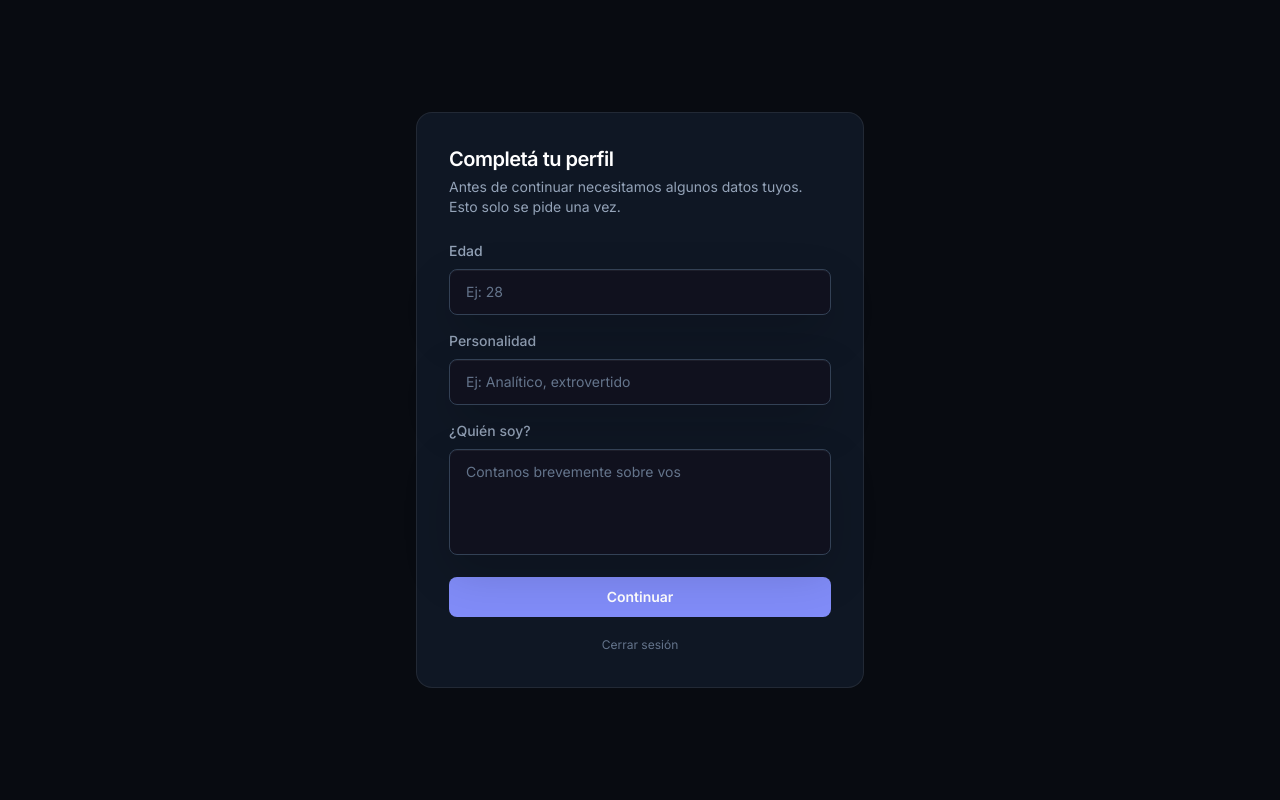
Test case: Profile completion gate (AppShell) › submitting valid data reveals the normal app without a fresh login
Type "28" into the number field labelled "Edad" at (640, 292), box [449,269,831,315]
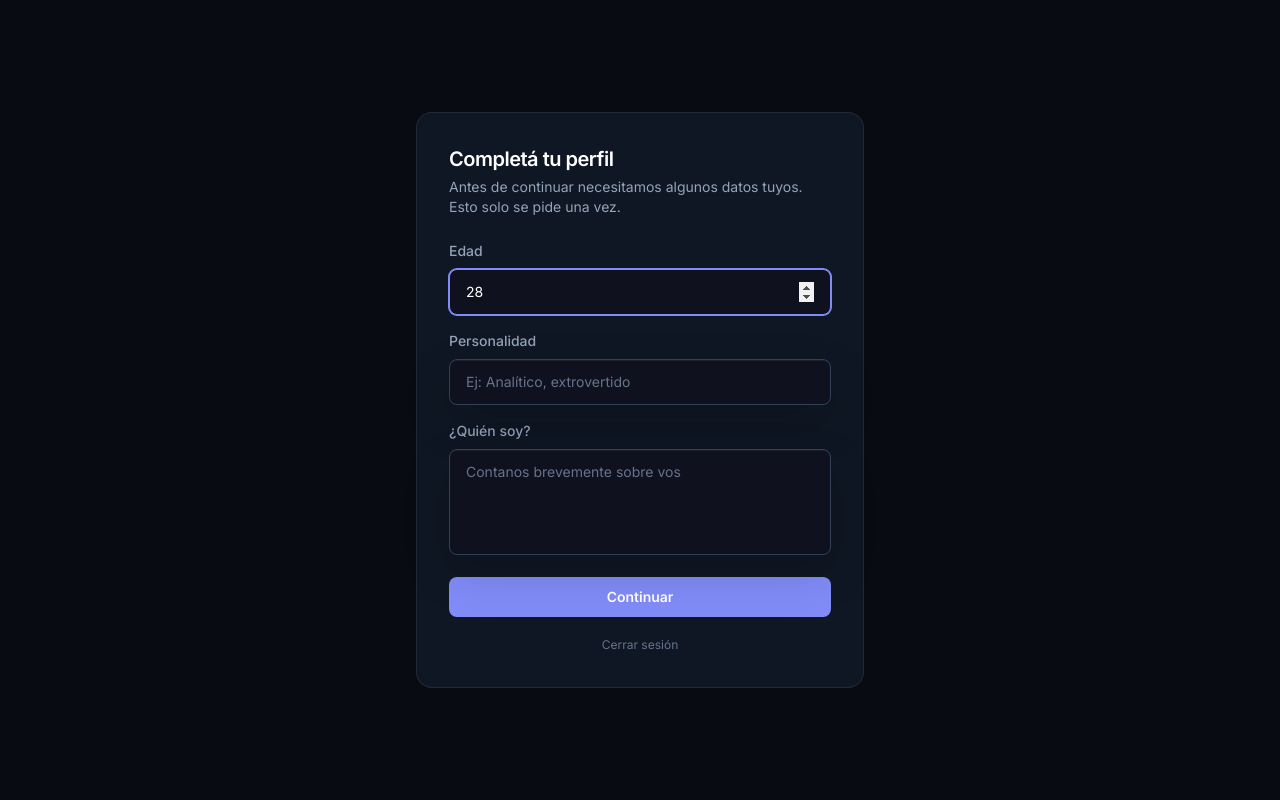
Type "Analitico" into the field labelled "Personalidad" at (640, 382), box [449,359,831,405]
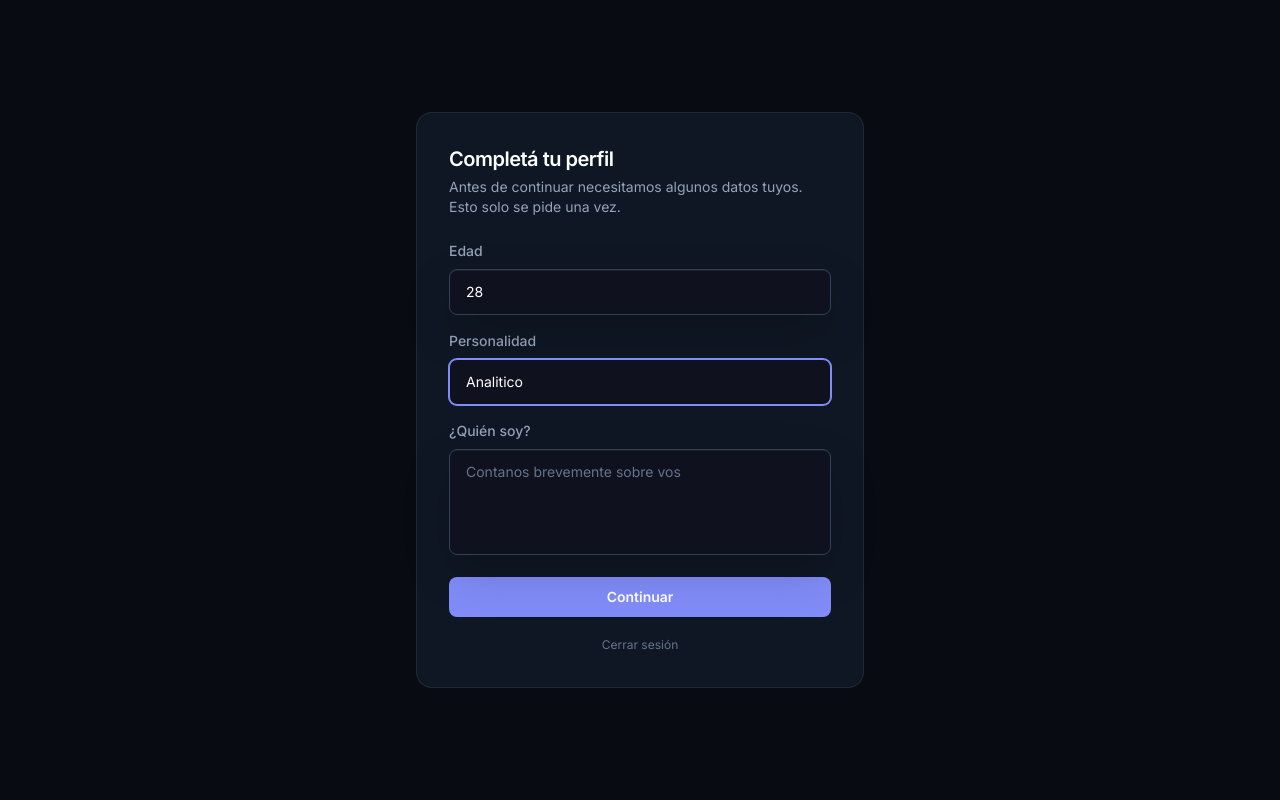
Type "Vendedor con experiencia" into the text box labelled "¿Quién soy?" at (640, 502), box [449,449,831,555]
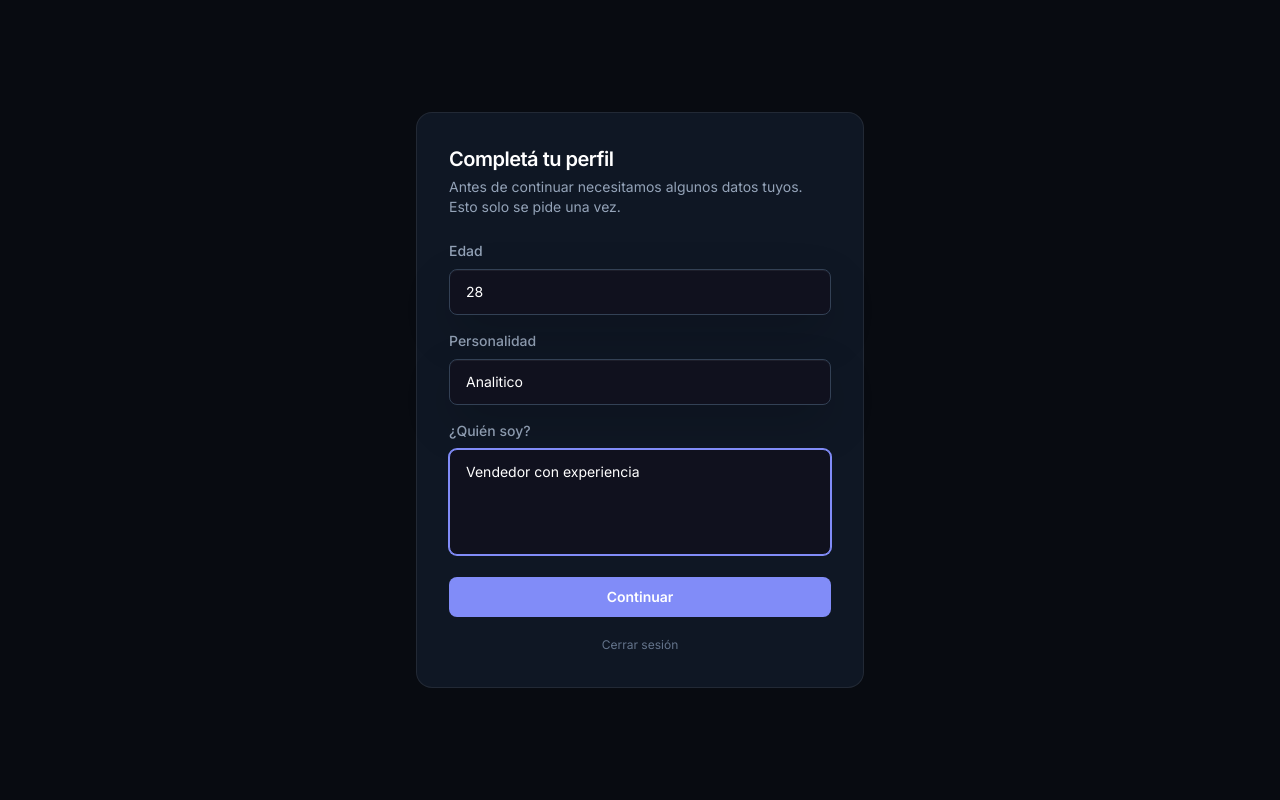
Click the button "Continuar" at (640, 597), box [449,577,831,617]
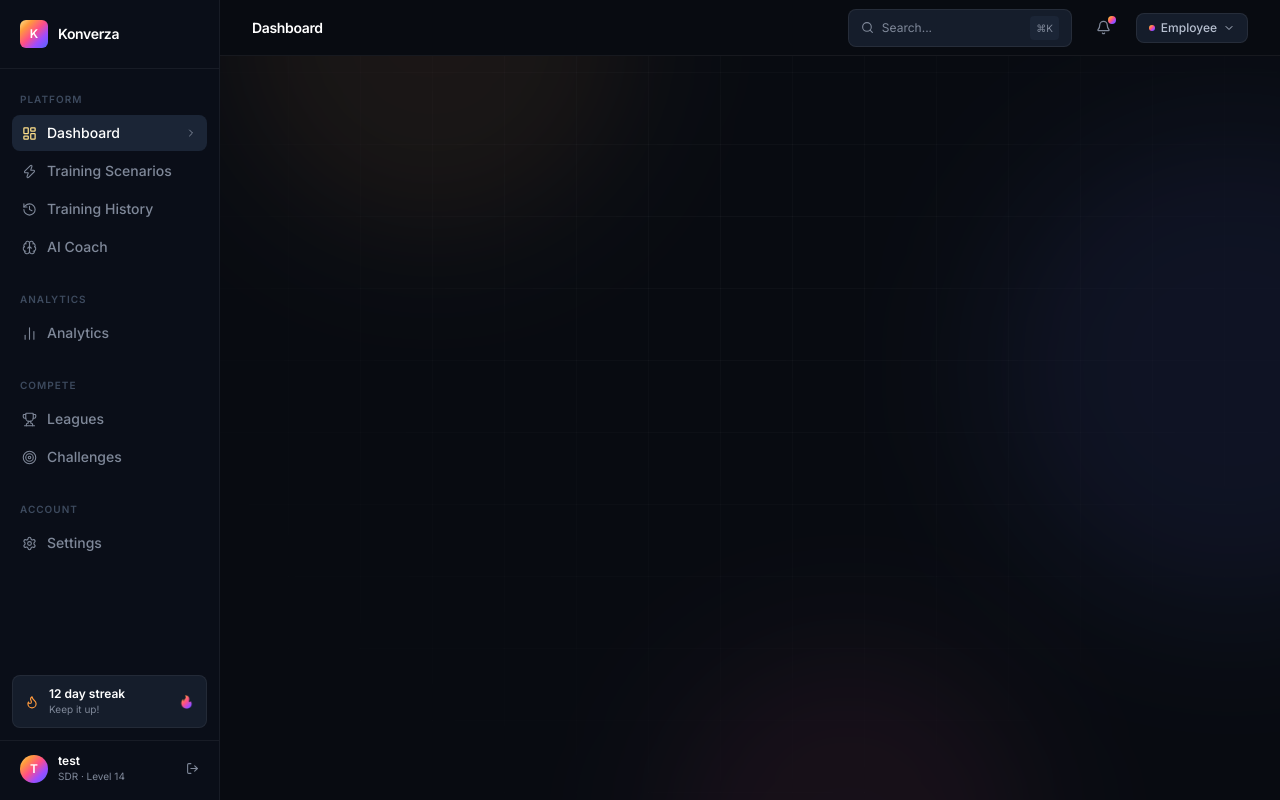
Expected: the heading "Completá tu perfil" is gone
